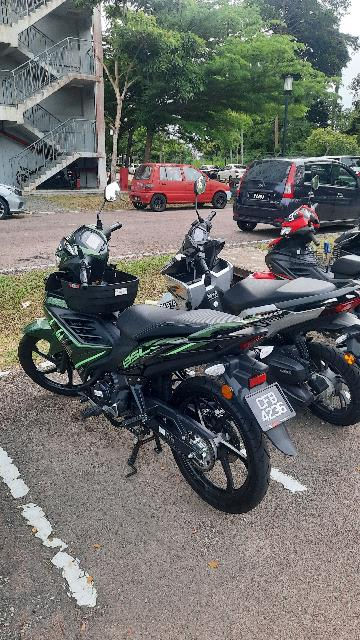License_Plate: (237, 373, 308, 432)
car: (233, 159, 360, 228), (125, 156, 238, 216)
motorcycle: (16, 172, 306, 512), (162, 179, 360, 427), (266, 177, 360, 332)
